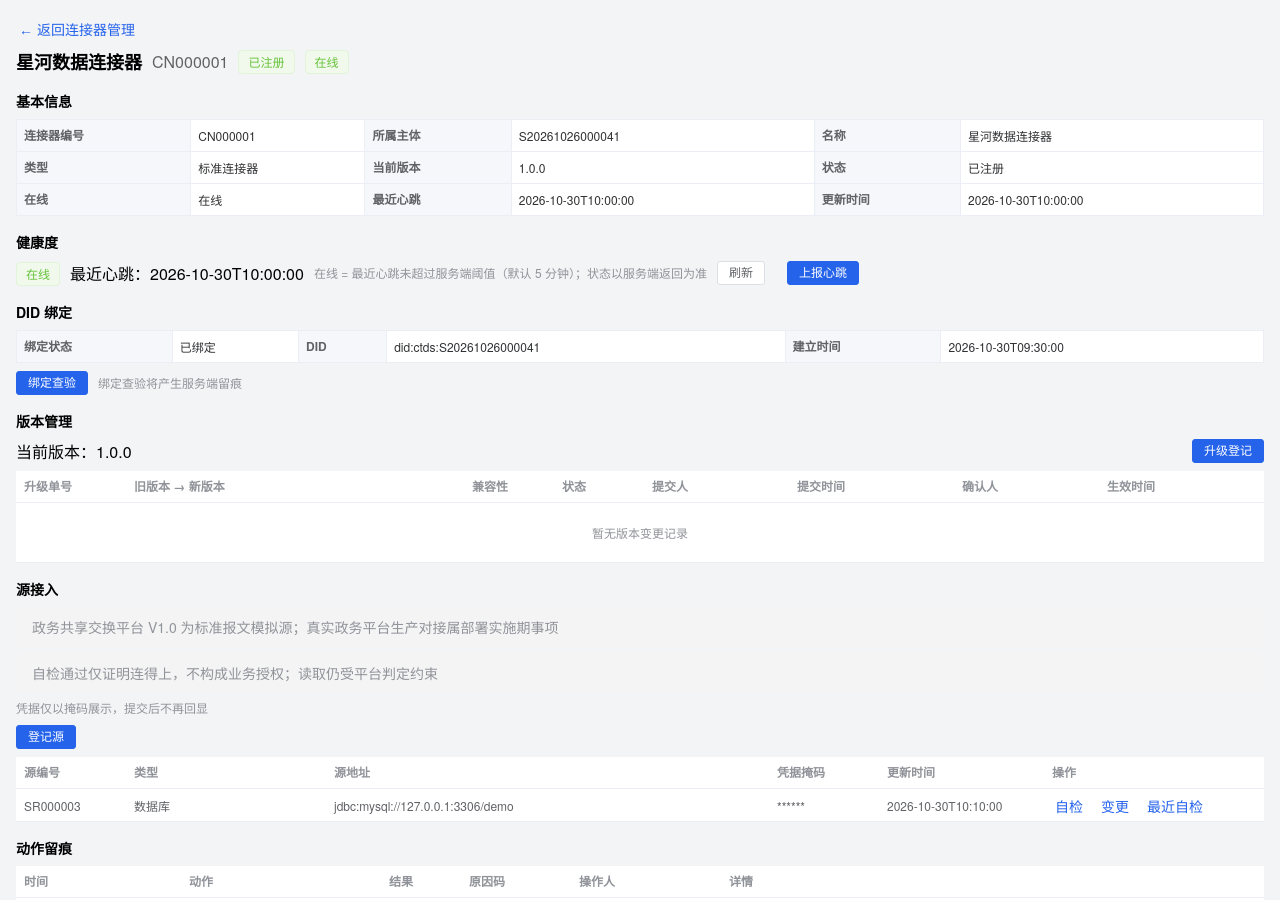
Test case: 健康度与绑定查验（T6） › 绑定查验 ACTIVE：结果面板展示实时 DID 状态 + 留痕提示
The image size is (1280, 900).
Click the button "绑定查验".
click(52, 383)  # box [16,371,88,395]
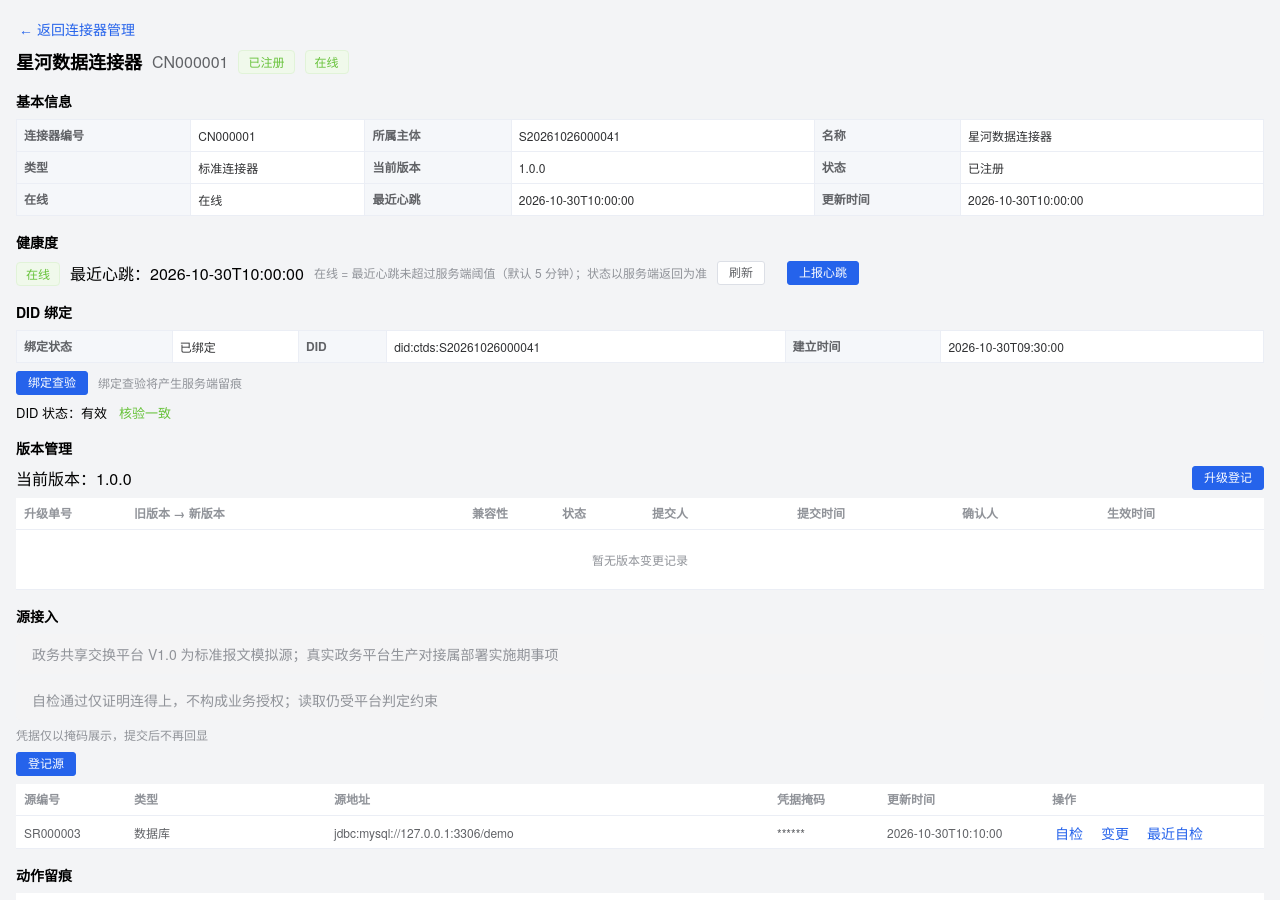
Expected: the text "绑定查验将产生服务端留痕" is shown, [98,374,242,391]
Expected: the element with class "binding-result" shows "有效", [16,403,107,422]
